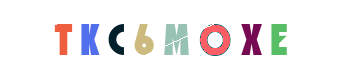0: (137, 0, 217, 80)
6: (118, 0, 198, 80)
C: (103, 0, 183, 80)
E: (226, 0, 306, 80)
K: (85, 0, 165, 80)
M: (135, 0, 215, 80)
T: (49, 0, 129, 80)
X: (211, 0, 291, 80)
